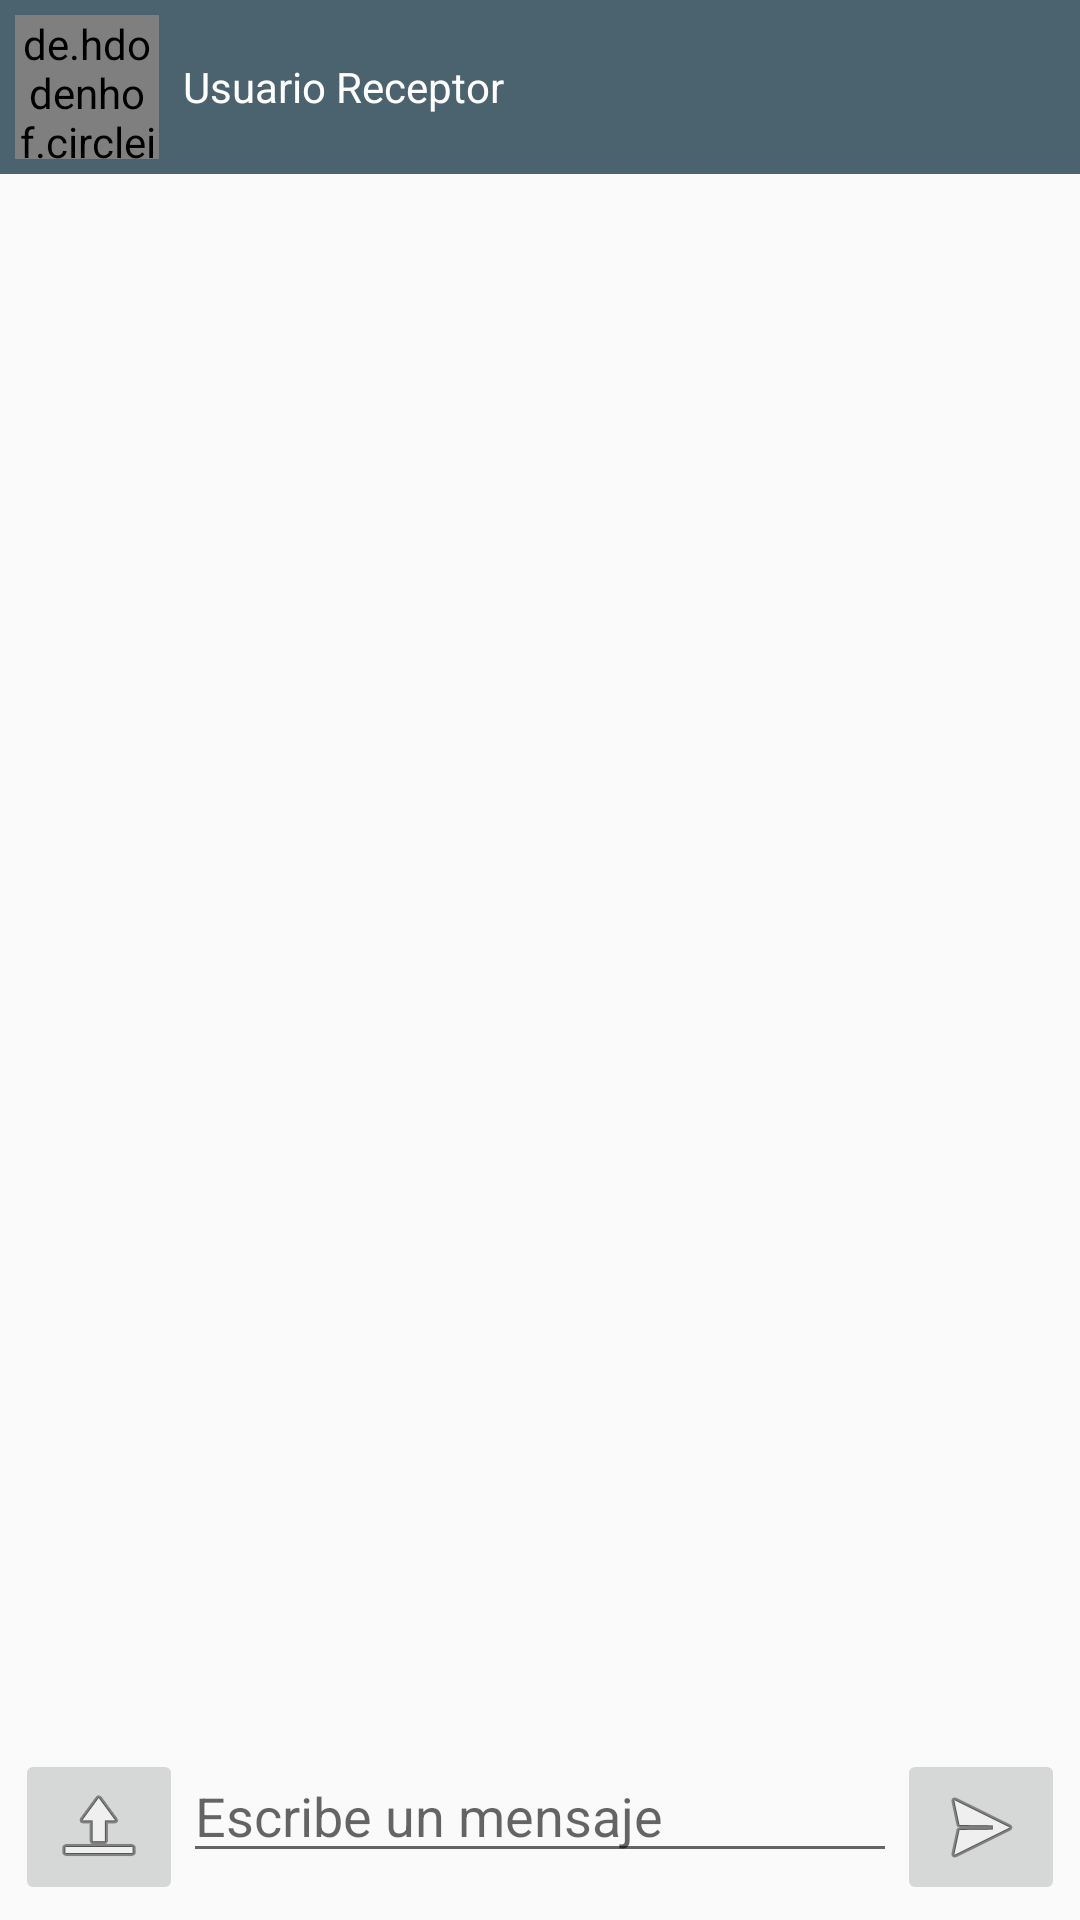

Point at icon controls on the screen. Image size 1080*1920, points as point (x, y).
send: point (981, 1827)
upload: point (99, 1827)
